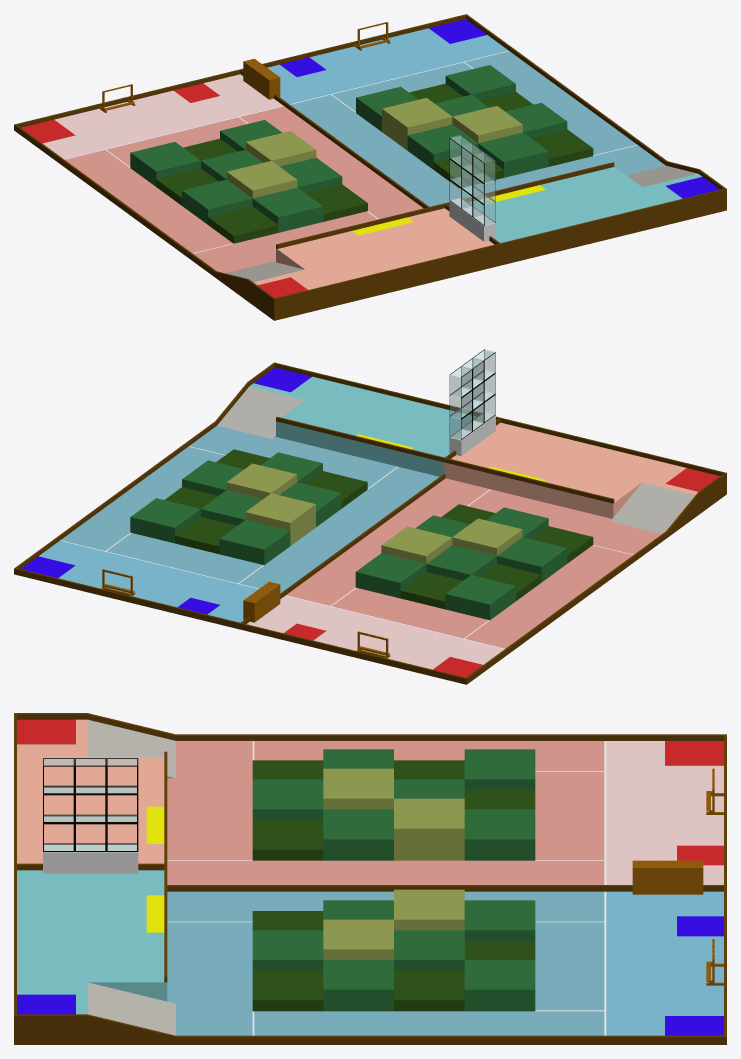
File: robocon_field.fbx
3 renders of one model, top to bottom at view 1: azimuth 30°, elevation 25°; view 2: azimuth 150°, elevation 25°; view 3: azimuth 270°, elevation 25°, orthographic. The views are drawn at different scales.
Visible parts, largest first — view 1: playfield-Body, glass_base-Body, spearheadrack-Body, glass-Body.008, glass-Body.006, glass-Body.002, glass-Body.005, glass-Body.007, glass-Body.003; view 2: playfield-Body, glass_base-Body, spearheadrack-Body, glass-Body.006, glass-Body, glass-Body.003, glass-Body.008, glass-Body.007; view 3: playfield-Body, glass_base-Body, spearheadrack-Body, glass-Body.007, glass-Body.006, glass-Body.008, glass-Body.004, glass-Body.003, glass-Body, glass-Body.001, glass-Body.005, glass-Body.002.
Boxes of the visible parts, x1,y1,x2,y2 form: playfield-Body: (14, 14, 726, 320); glass_base-Body: (449, 198, 495, 241); spearheadrack-Body: (243, 58, 280, 99); glass-Body.008: (473, 152, 495, 183); glass-Body.006: (449, 135, 472, 166); glass-Body.002: (473, 194, 495, 225); glass-Body.005: (473, 173, 495, 204); glass-Body.007: (461, 143, 483, 175); glass-Body.003: (449, 156, 472, 187); playfield-Body: (14, 362, 726, 684); glass_base-Body: (449, 412, 495, 455); spearheadrack-Body: (243, 581, 280, 622); glass-Body.006: (449, 366, 472, 397); glass-Body: (449, 409, 472, 440); glass-Body.003: (449, 388, 472, 418); glass-Body.008: (473, 349, 495, 380); glass-Body.007: (461, 358, 483, 389); playfield-Body: (14, 713, 726, 1044); glass_base-Body: (43, 844, 138, 873); spearheadrack-Body: (632, 860, 703, 894); glass-Body.007: (74, 758, 106, 794); glass-Body.006: (106, 758, 138, 794); glass-Body.008: (43, 758, 74, 794); glass-Body.004: (74, 787, 106, 823); glass-Body.003: (106, 787, 138, 823); glass-Body: (106, 815, 138, 851); glass-Body.001: (74, 815, 106, 851); glass-Body.005: (43, 787, 74, 823); glass-Body.002: (43, 815, 74, 851).
Size of the model in its own units: 1215 by 1210 by 247.
